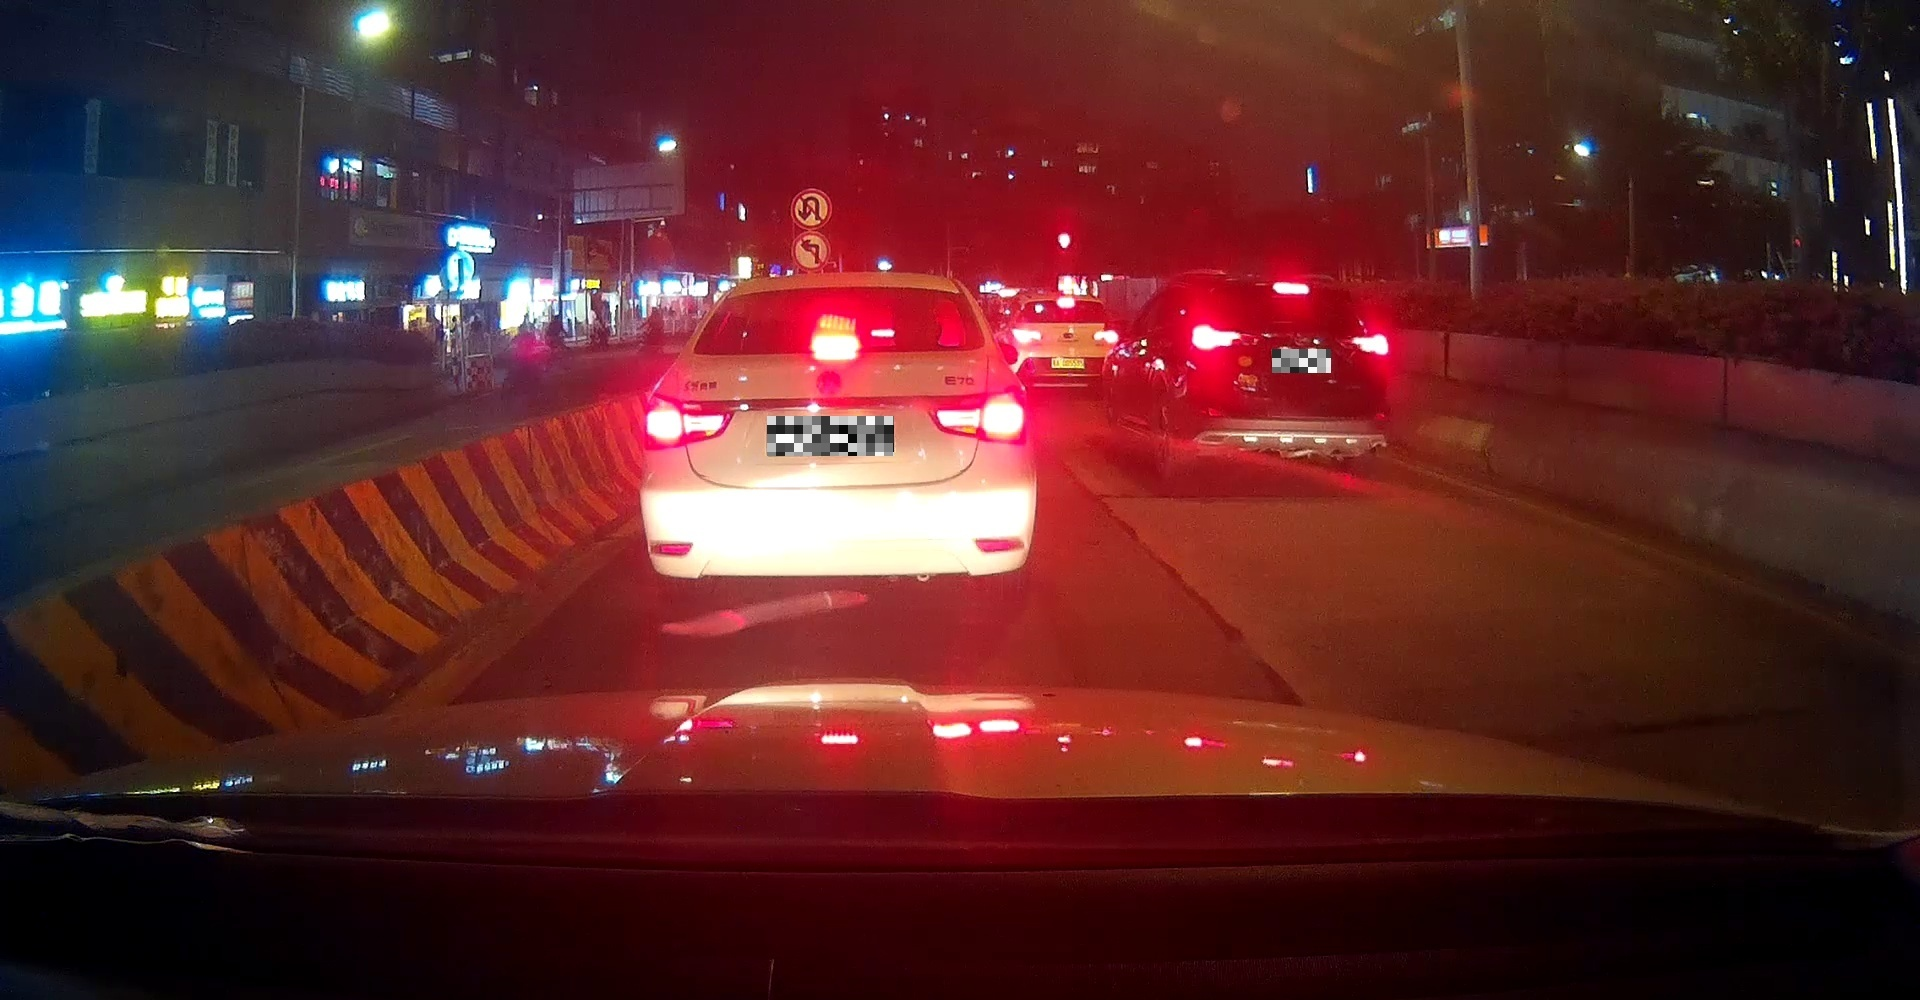L_light: (643, 392, 737, 449), (1191, 324, 1242, 350)
R_light: (924, 386, 1029, 445), (1351, 334, 1389, 355)
T_light: (811, 334, 860, 352), (1272, 282, 1308, 294)
night-brake: (639, 272, 1036, 599), (1186, 274, 1393, 478)
plate_1: (767, 416, 894, 456)
plate_2: (1272, 349, 1331, 373)
